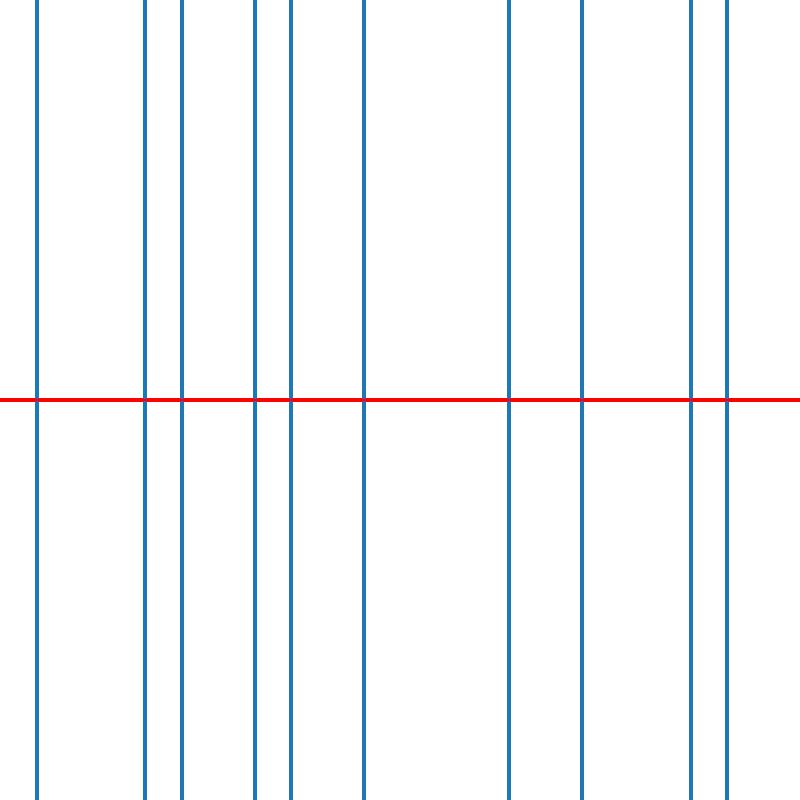root: (141, 396, 149, 404), (32, 396, 40, 404), (250, 396, 258, 404), (687, 396, 694, 404), (723, 396, 730, 404), (578, 396, 585, 404), (360, 396, 367, 404), (287, 396, 294, 404), (178, 396, 185, 404), (505, 396, 512, 404)
